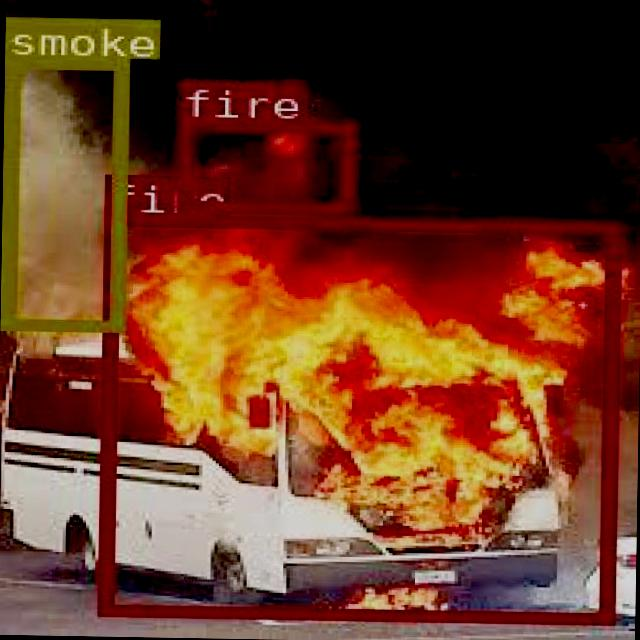fire: (95, 213, 618, 622), (175, 118, 352, 212)
smoke: (0, 56, 123, 330)
